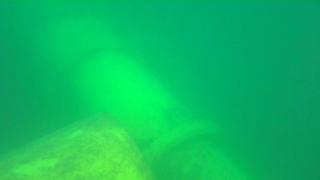pipe: (33, 1, 248, 180), (1, 111, 154, 180)
